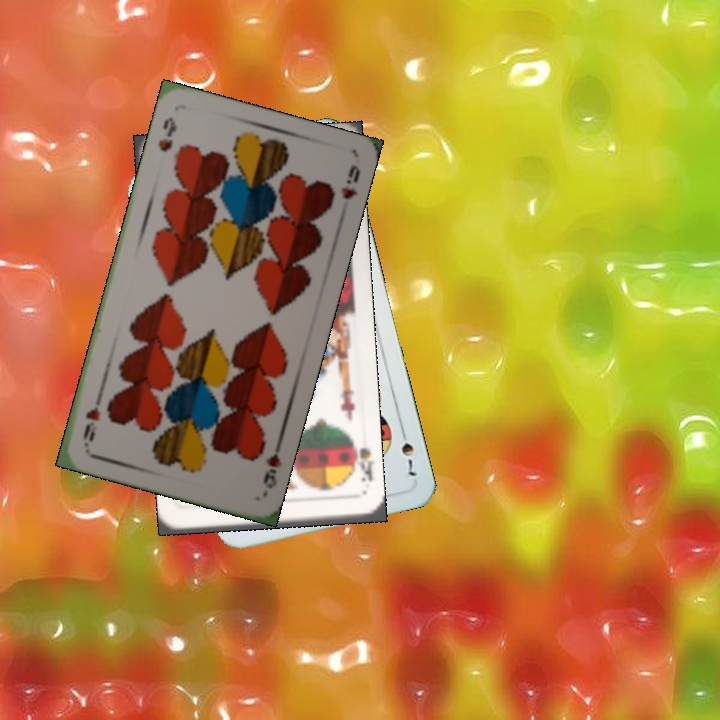H9: (258, 438, 285, 497), (154, 112, 180, 154)
S7: (397, 423, 420, 479)
SK: (347, 437, 375, 485)
